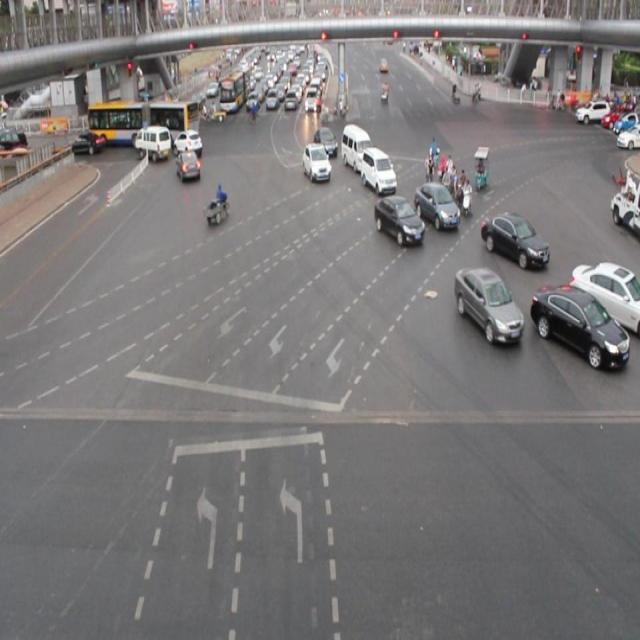car: (530, 286, 626, 368), (568, 260, 640, 332), (452, 268, 520, 340), (479, 212, 547, 268), (373, 196, 422, 246), (413, 182, 458, 228), (360, 146, 395, 192), (301, 144, 330, 180), (174, 129, 204, 158), (312, 126, 338, 158), (176, 149, 200, 183)
truck: (340, 123, 374, 173), (134, 125, 169, 159)
